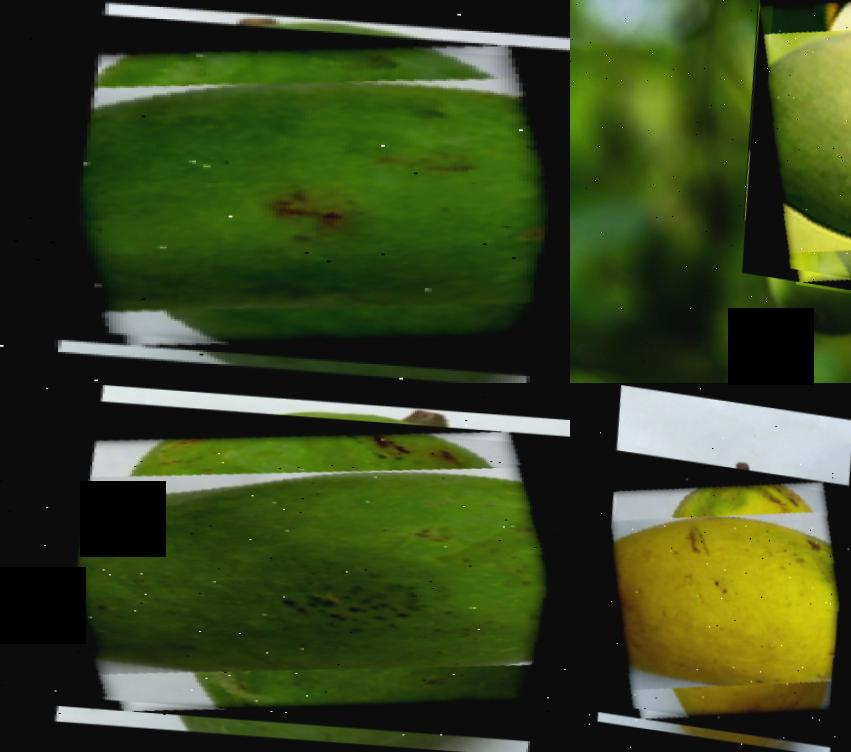Ripe: (582, 458, 851, 738)
Unripe: (9, 22, 570, 365), (11, 409, 570, 732), (732, 0, 851, 311)
